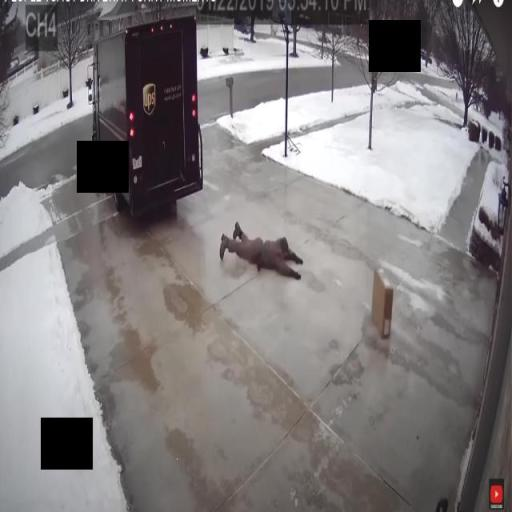Fall: (218, 221, 304, 289)
